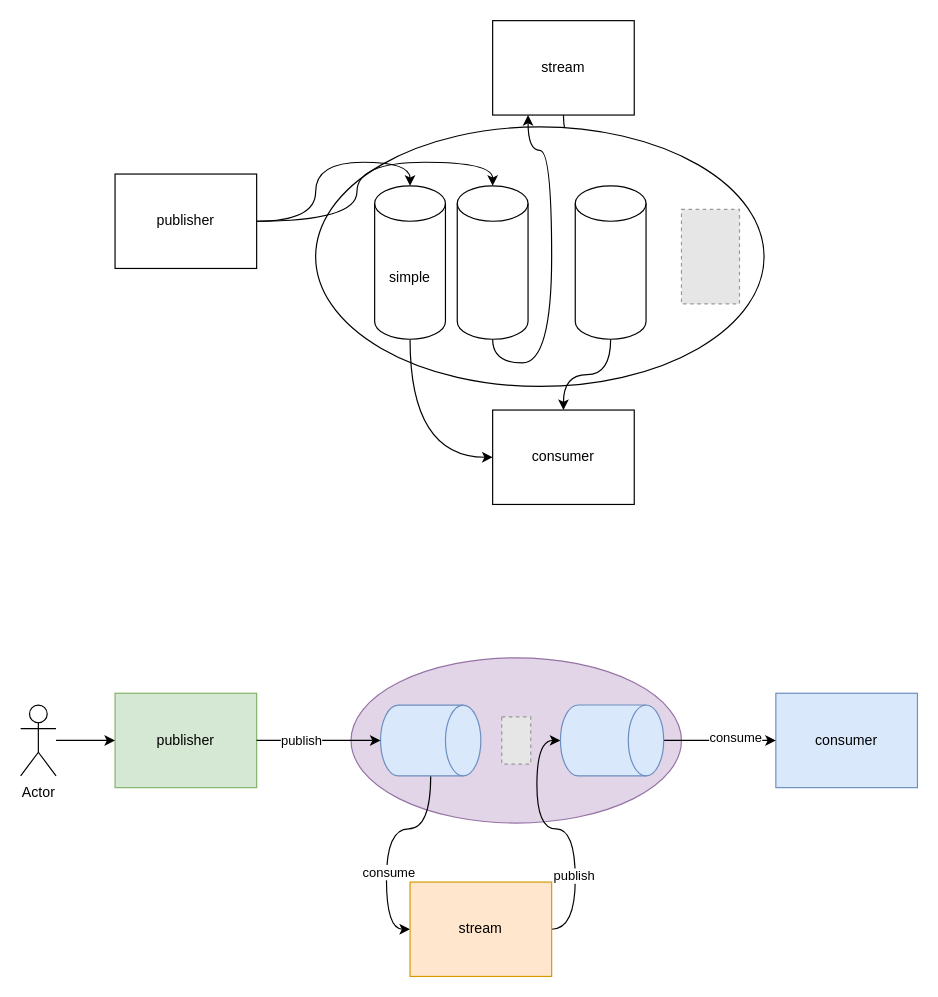
Some shapes in this 938 by 997 pixel diagram are drawn without their labels. Grey dashed boxes stand in for pictures. The shapes that lost their labels are listed below. From the top down, each one's box as (x1, y1, x2, y2) in pixels, then its label:
(456, 185, 528, 339): in
(574, 185, 646, 339): out
(379, 704, 481, 776): text
(559, 704, 664, 776): words
